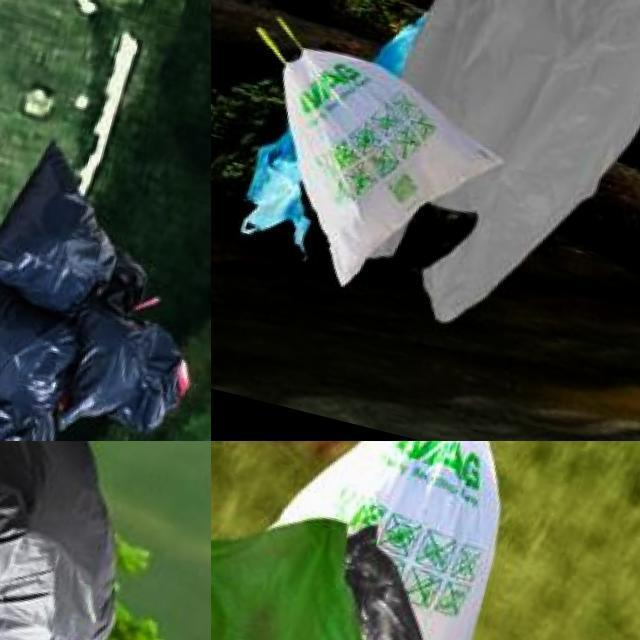waste: (358, 0, 640, 365), (243, 39, 510, 290), (211, 482, 471, 640), (0, 441, 183, 640), (0, 131, 148, 320), (52, 294, 210, 441), (0, 270, 86, 416), (0, 441, 59, 640), (0, 366, 80, 441)
